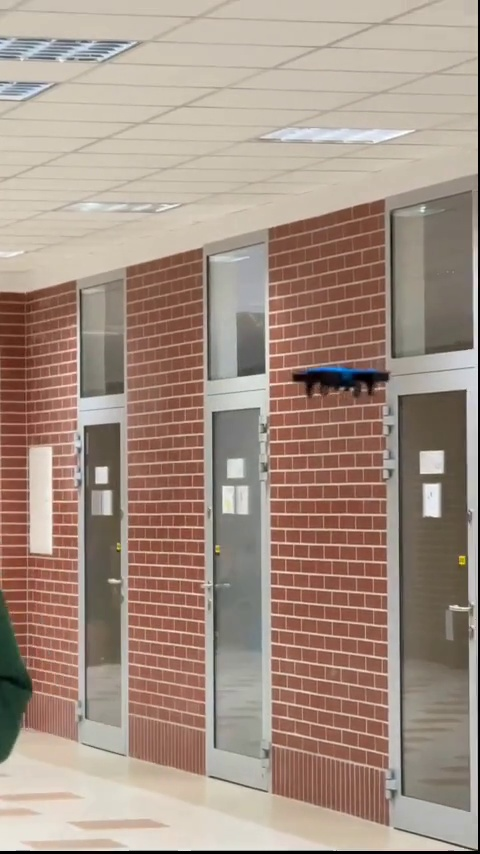drone: (285, 366, 393, 400)
